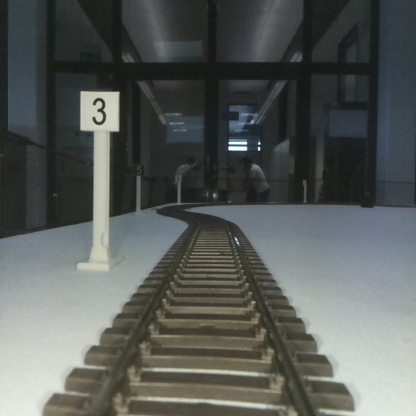black-info-5: (133, 164, 144, 216)
white-info-3: (79, 92, 119, 267)
white-info-6: (175, 174, 181, 204)
